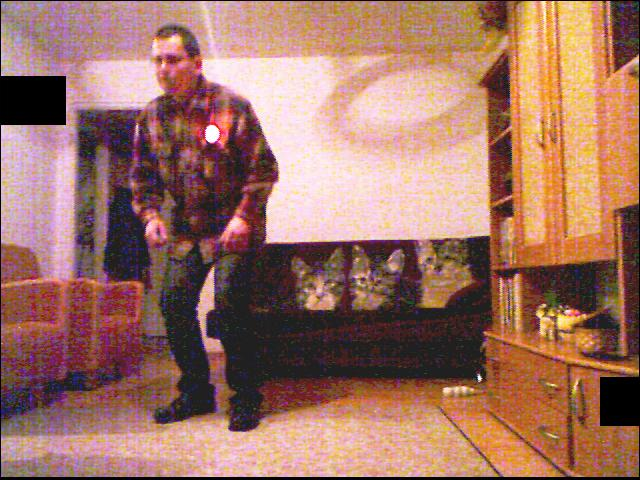bending: (110, 17, 303, 443)
